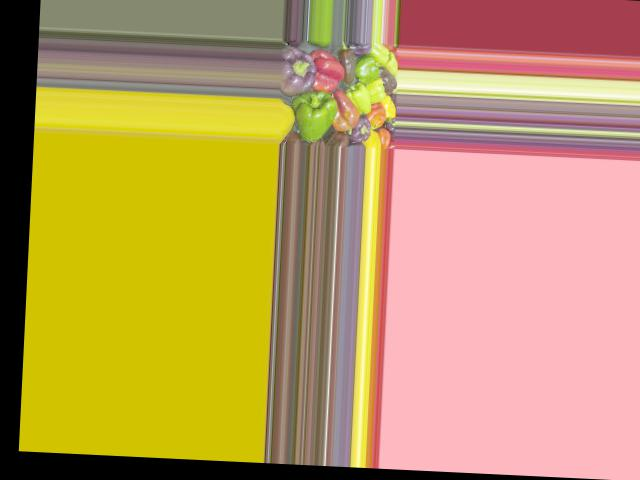bell_pepper: (349, 116, 375, 145)
